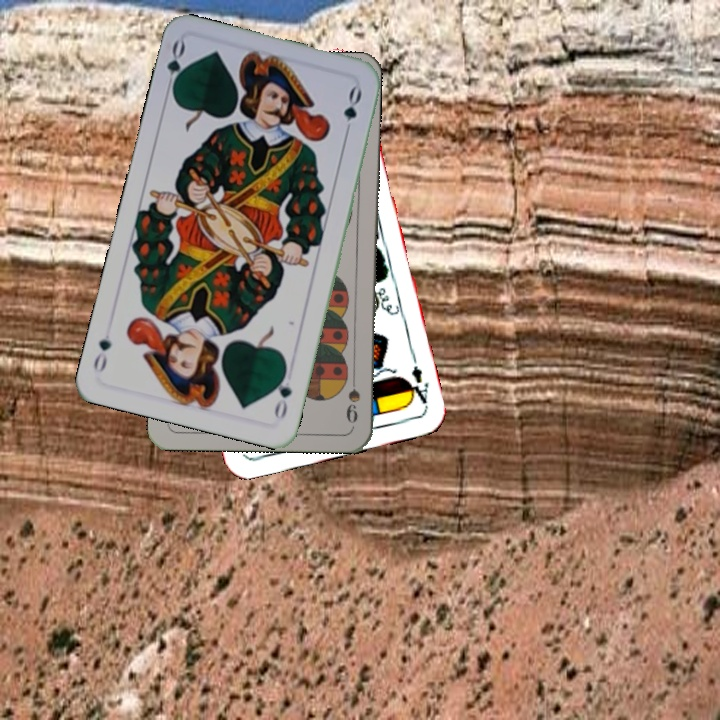EA: (402, 361, 431, 410)
GO: (161, 37, 190, 97), (270, 364, 295, 422)
S9: (342, 367, 363, 426)
